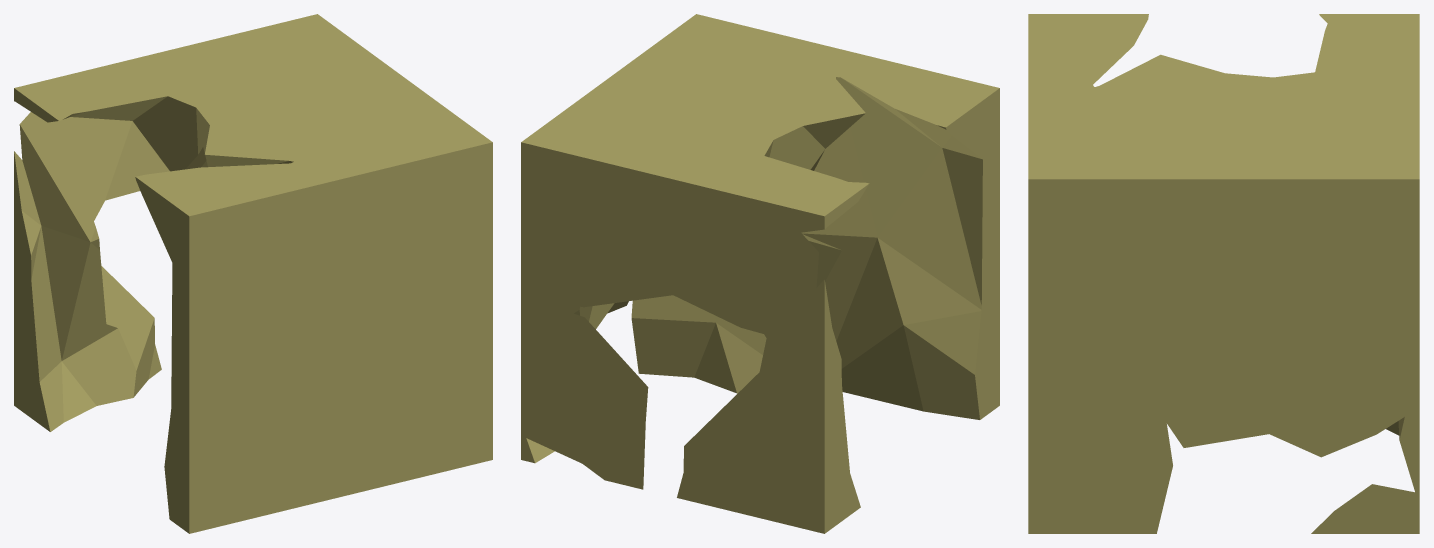
The model's file is Destroyed_box-col1.glb.
The picture shows the model from 3 angles, left to right: view 1: azimuth 30°, elevation 25°; view 2: azimuth 150°, elevation 25°; view 3: azimuth 270°, elevation 25°; orthographic projection. The views are drawn at different scales.
Visible parts, largest first — view 1: Destroyed_box-col1; view 2: Destroyed_box-col1; view 3: Destroyed_box-col1.
Boxes of the visible parts, x1,y1,x2,y2 form: Destroyed_box-col1: [14, 14, 492, 533]; Destroyed_box-col1: [521, 14, 999, 533]; Destroyed_box-col1: [1028, 14, 1419, 533].
Bounding box in the file's own units: 2 × 2 × 2.
